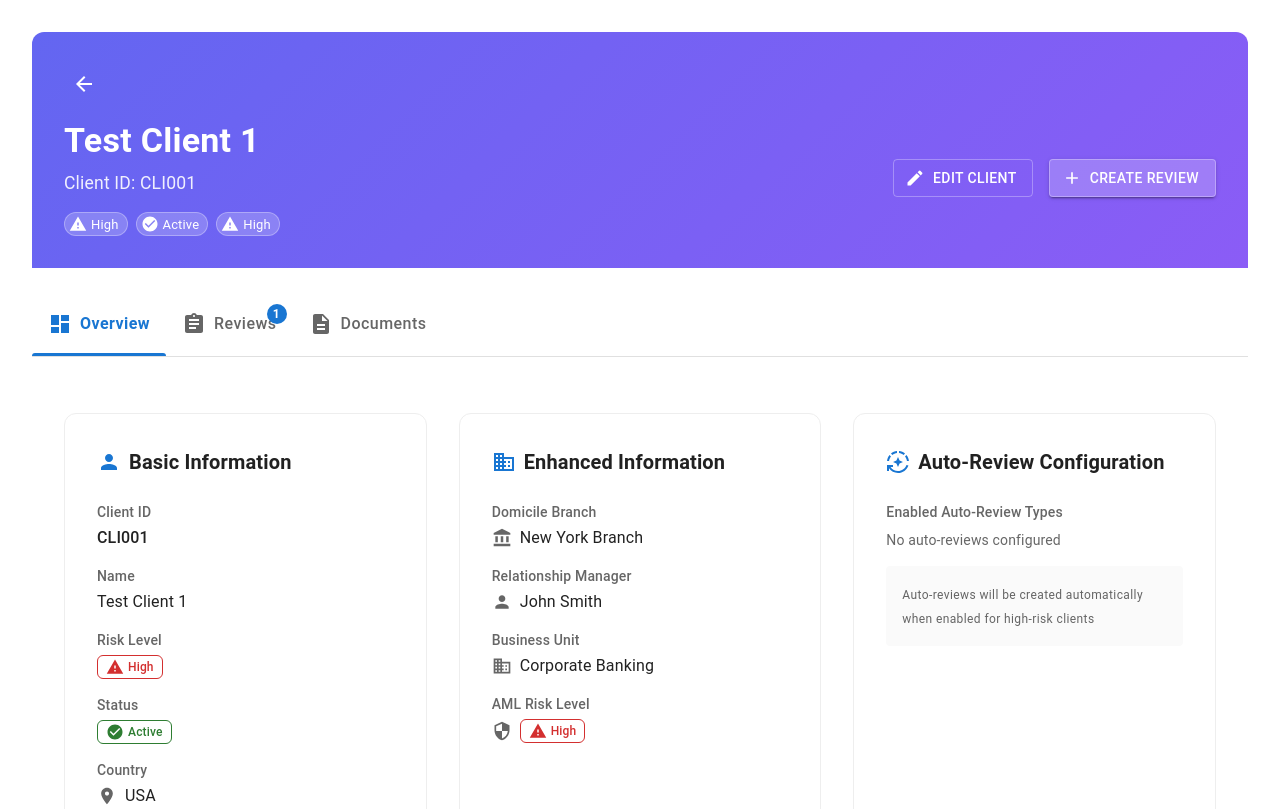
Test: Enhanced Client Components - Requirements Testing › Field Validation and Error Handling (Requirements 1.1-1.4) › validates required fields during editing
The image size is (1280, 809).
Click the button "Edit Client" at (963, 178), box x1=893 y1=159 x2=1033 y2=197
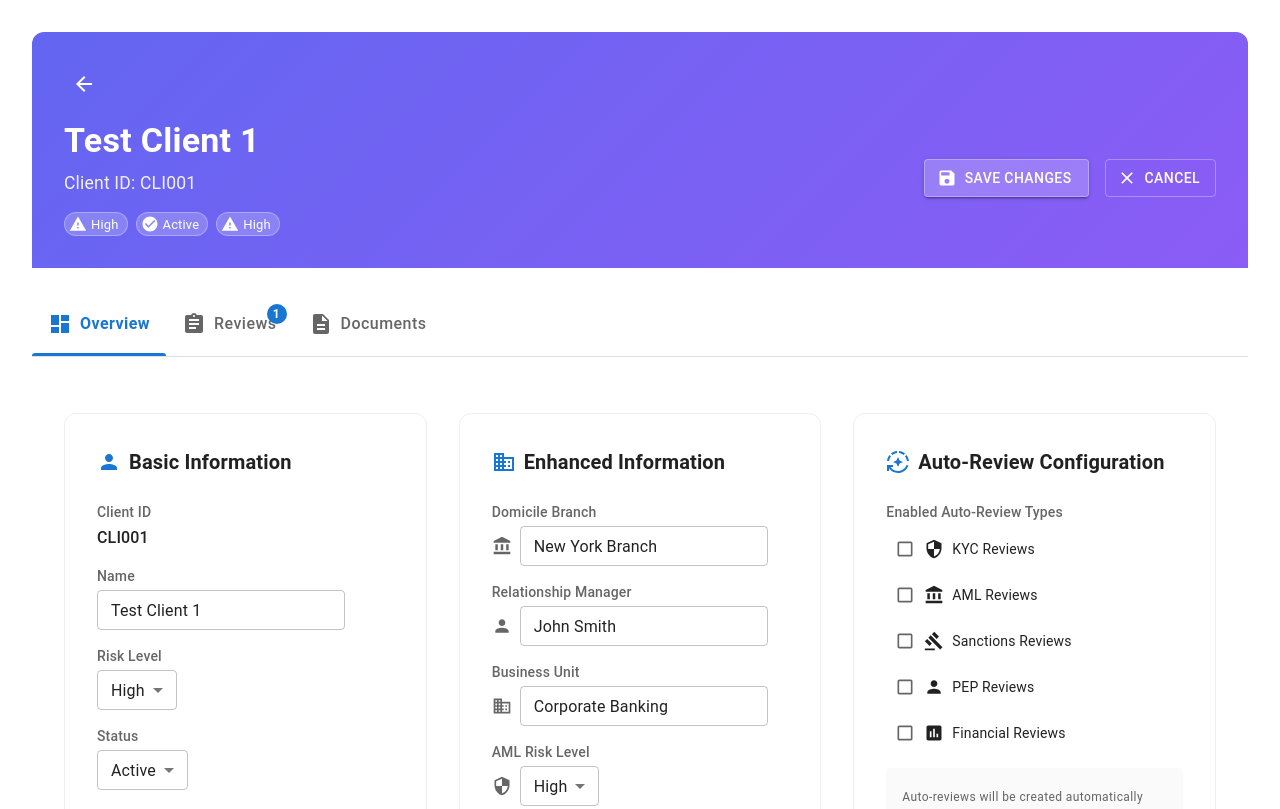
// Clear required field (name)
Clear the field showing "Test Client 1" below "Name" at (221, 610), box x1=97 y1=590 x2=345 y2=630
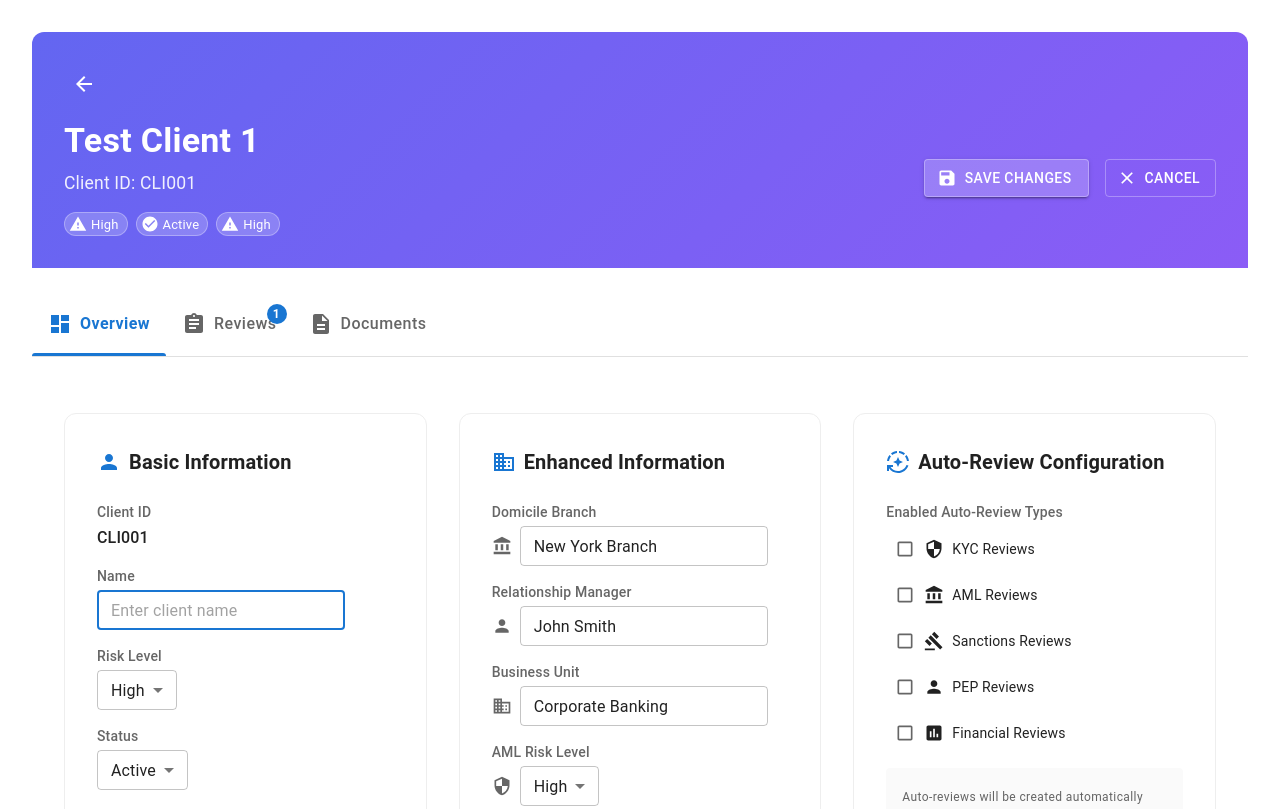
// Try to save
Click the button "Save Changes" at (1006, 178), box x1=924 y1=159 x2=1088 y2=197
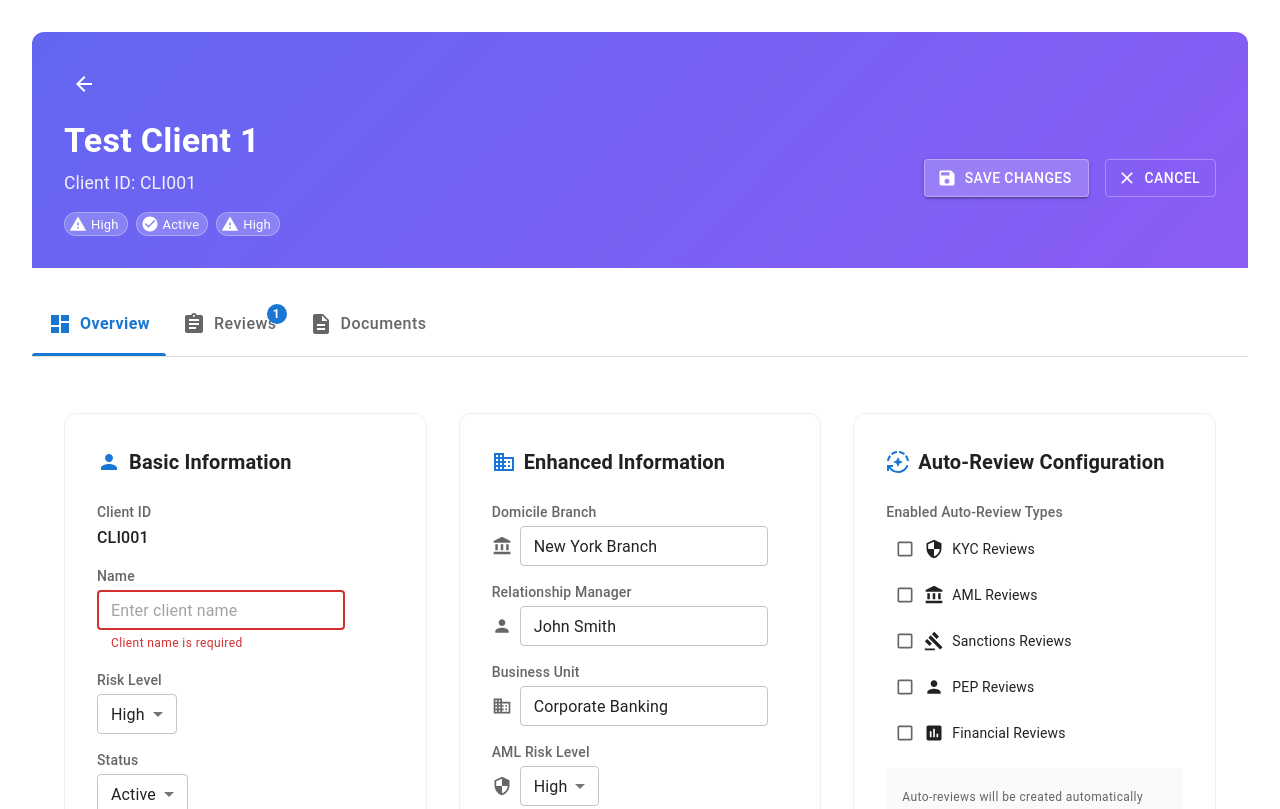
expect the text "Client name is required" is shown: met, box x1=111 y1=636 x2=243 y2=650
